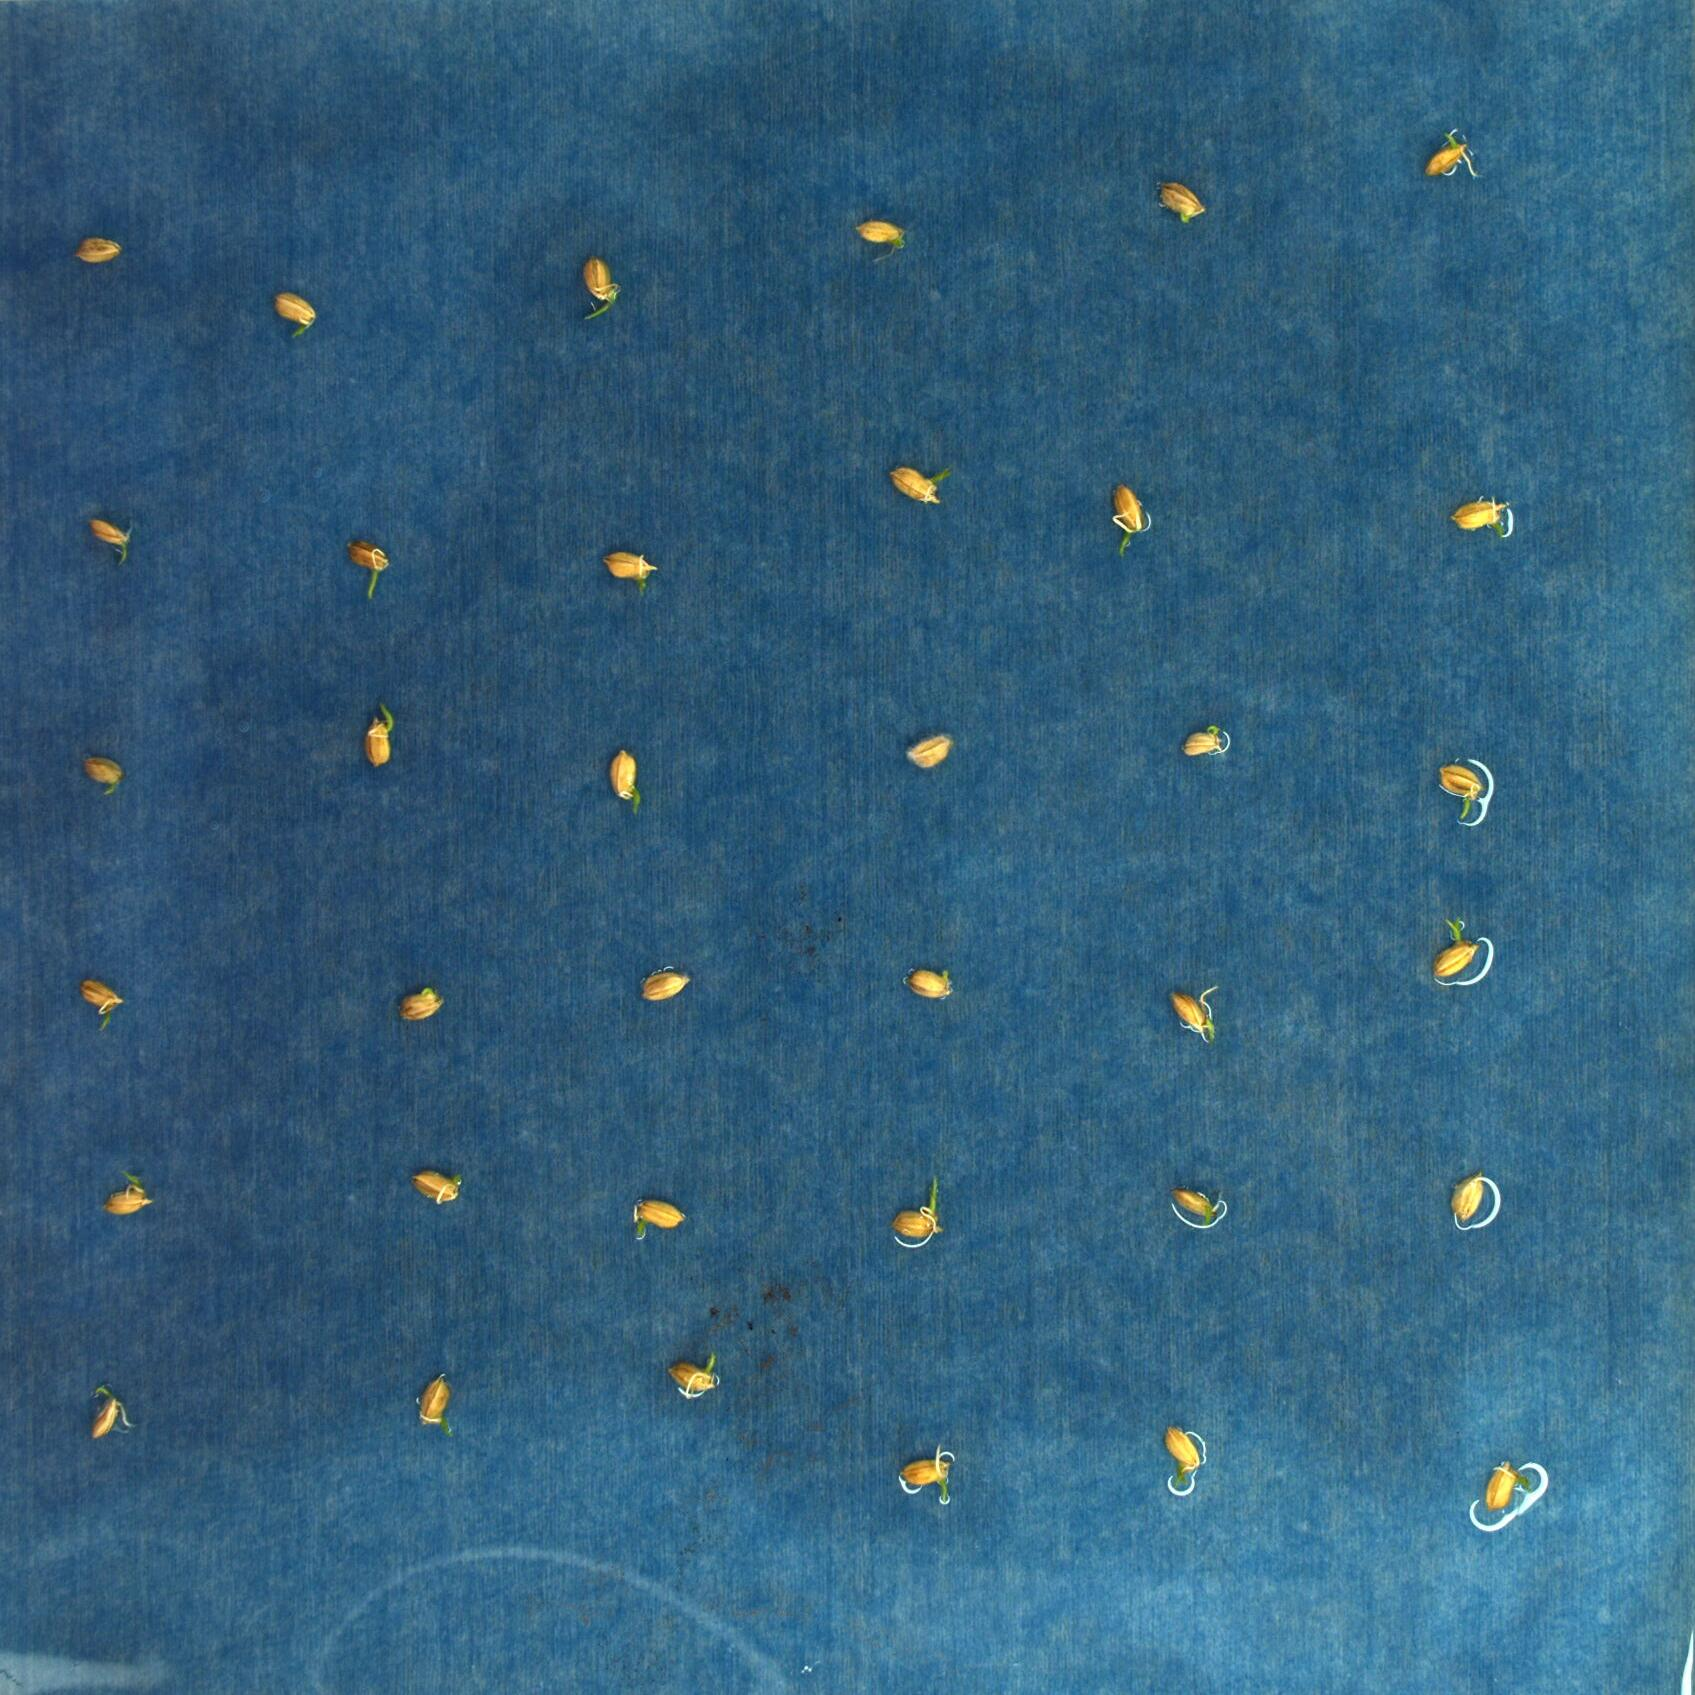not sprout: (1156, 1417, 1211, 1501), (1416, 124, 1485, 185), (653, 1346, 726, 1402), (402, 1367, 456, 1439), (1163, 975, 1217, 1043), (1479, 1456, 1532, 1523), (626, 1191, 689, 1243), (1448, 498, 1518, 542), (85, 512, 140, 568), (82, 1383, 133, 1440), (75, 972, 126, 1028), (1146, 179, 1208, 220), (414, 1166, 467, 1212), (1447, 1164, 1485, 1225), (393, 981, 445, 1024), (267, 292, 315, 335), (900, 733, 951, 773), (638, 969, 695, 1004), (78, 751, 120, 799), (905, 962, 955, 1003), (1180, 719, 1229, 757), (73, 231, 121, 262)
sprout: (886, 1440, 955, 1509), (886, 1172, 950, 1243), (886, 455, 958, 508), (1104, 481, 1149, 560), (1425, 914, 1479, 979), (95, 1166, 154, 1223), (599, 548, 657, 602), (1434, 757, 1482, 821), (847, 216, 905, 269), (345, 539, 393, 599), (607, 747, 647, 818), (577, 258, 621, 320), (360, 703, 394, 770), (1170, 1184, 1226, 1225)
